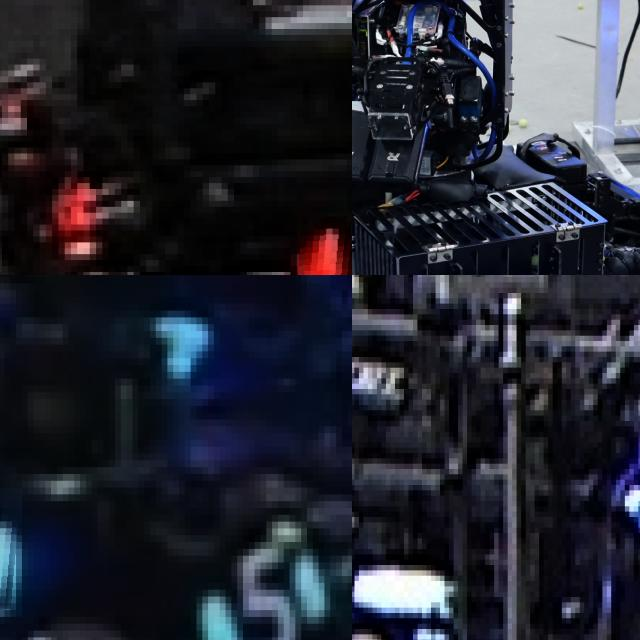B5: (196, 528, 330, 640)
R2: (297, 212, 352, 275)
